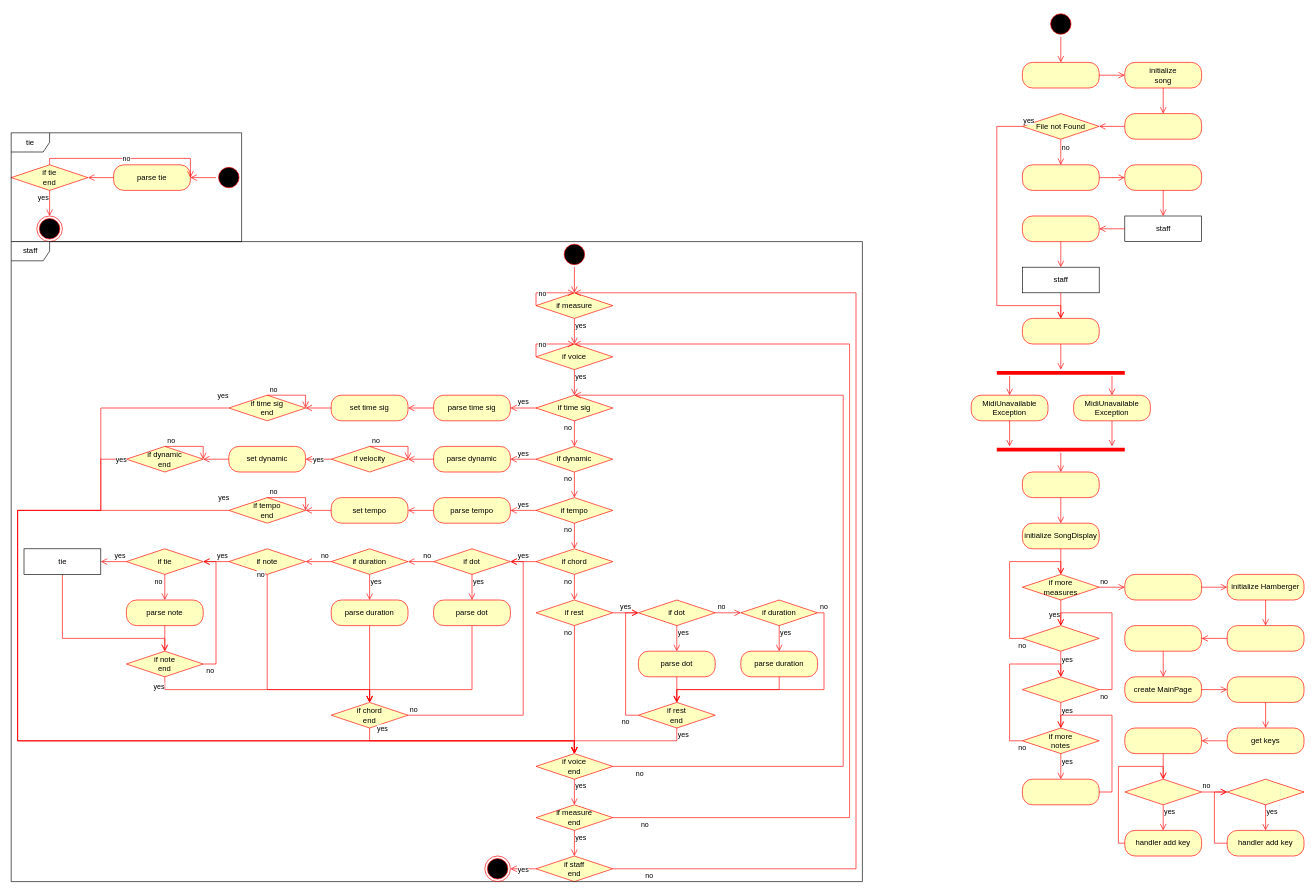
This 1315x893 diagram has some shape labels left out. Each missing label, with the centre of its shape:
add Mouse Listener: (1163,638)
add note: (1060,792)
add Note Played Listener: (1265,638)
create Piano: (1265,689)
get sharpKeys: (1163,740)
if more chords: (1060,689)
if more keys: (1163,792)
if more sharp keys: (1265,792)
if more voices: (1060,638)
initialize Handler: (1060,484)
initialize Menu: (1163,587)
initialize MIDi: (1060,331)
initialize parser: (1060,75)
open file: (1060,177)
parse bottom staff: (1060,228)
parse file: (1163,126)
parse top staff: (1163,177)
